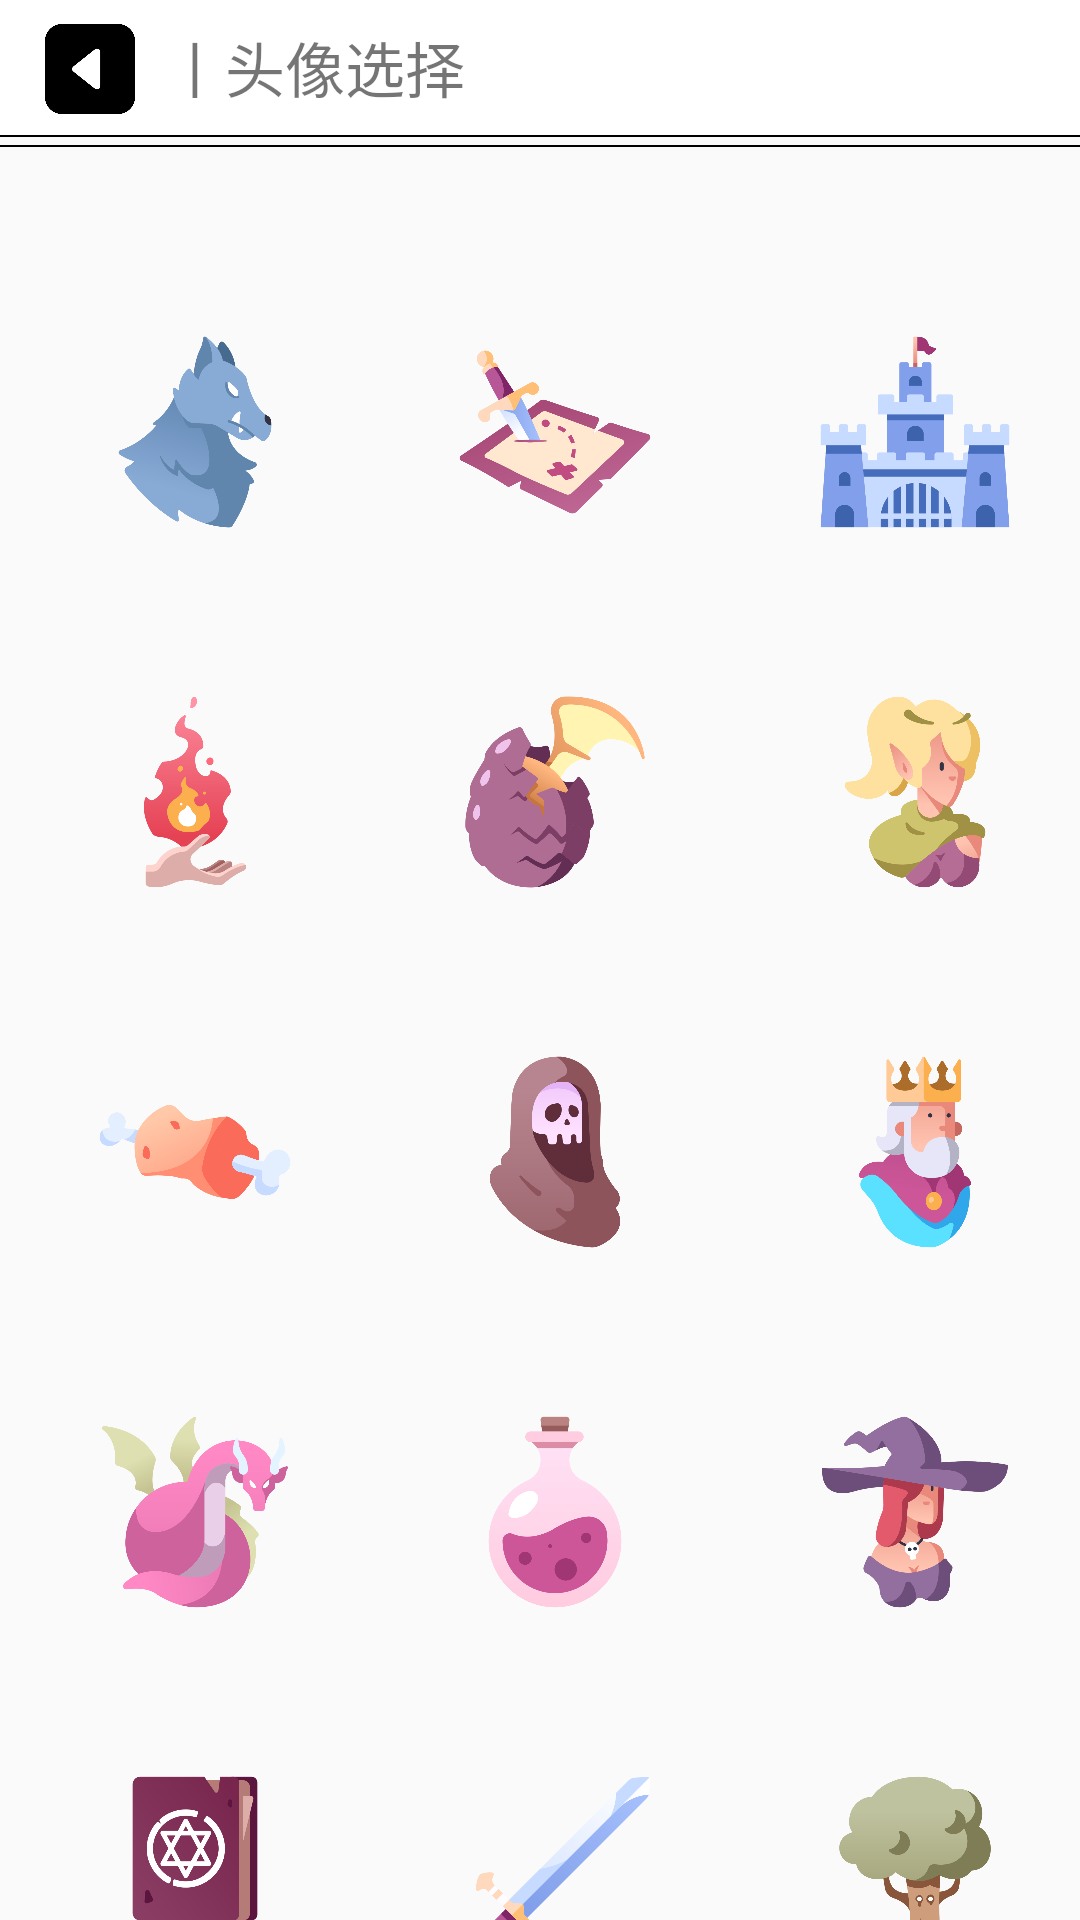

Named icons in this screenshot (1080×1920) and their centers, (x,y):
back: (90,69)
